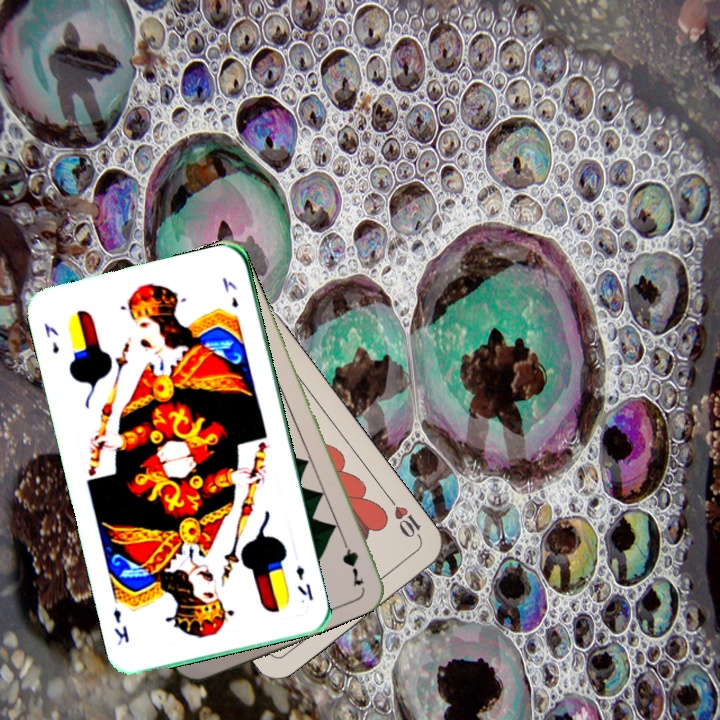EK: (291, 562, 316, 603), (40, 319, 62, 357)
G7: (336, 530, 367, 590)
H10: (384, 493, 425, 545)
